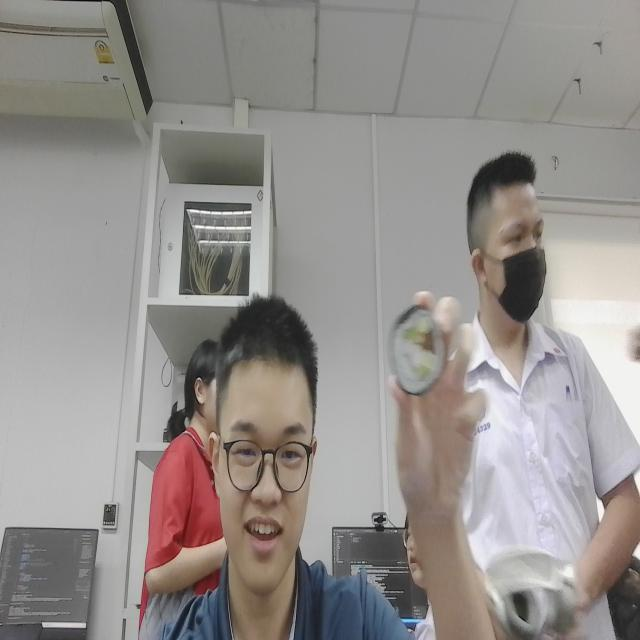sushi: (387, 290, 450, 408)
